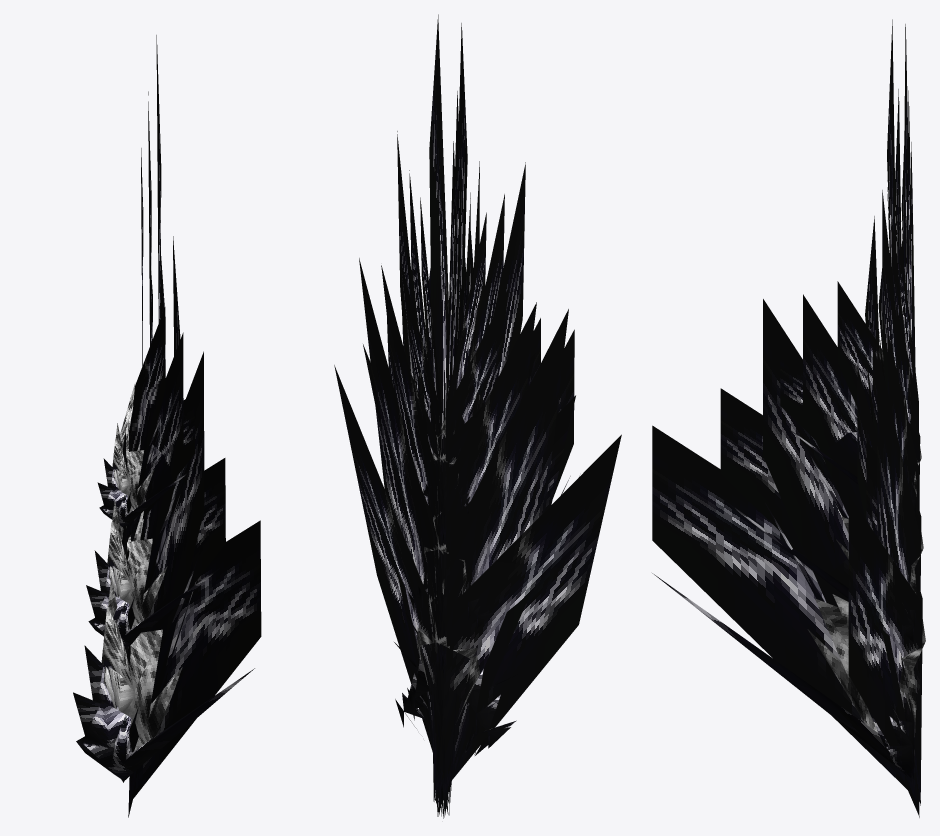
The model's file is hendlight02.glb.
3 views of the same model, side by side, from view 1: azimuth 30°, elevation 25°; view 2: azimuth 150°, elevation 25°; view 3: azimuth 270°, elevation 25° (orthographic).
Visible parts, largest first — view 1: model_hendlight02; view 2: model_hendlight02; view 3: model_hendlight02.
Part boxes in pixels (box(x1,y1,x2,y2)): model_hendlight02: box(73, 35, 261, 817); model_hendlight02: box(334, 14, 621, 818); model_hendlight02: box(652, 19, 925, 817).
Bounding box in the file's own units: 2 × 5.31 × 1.66.
Materials: 2 (2 with a texture image).
